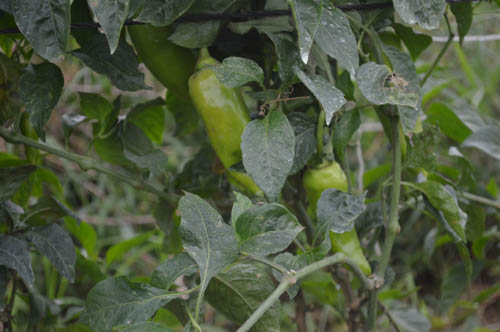ChiliPepper: (193, 71, 266, 198), (308, 166, 369, 278), (129, 26, 192, 88)
